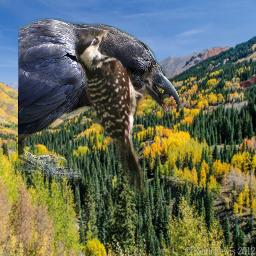Crow: (18, 18, 181, 179)
Woodpecker: (75, 30, 158, 194)
